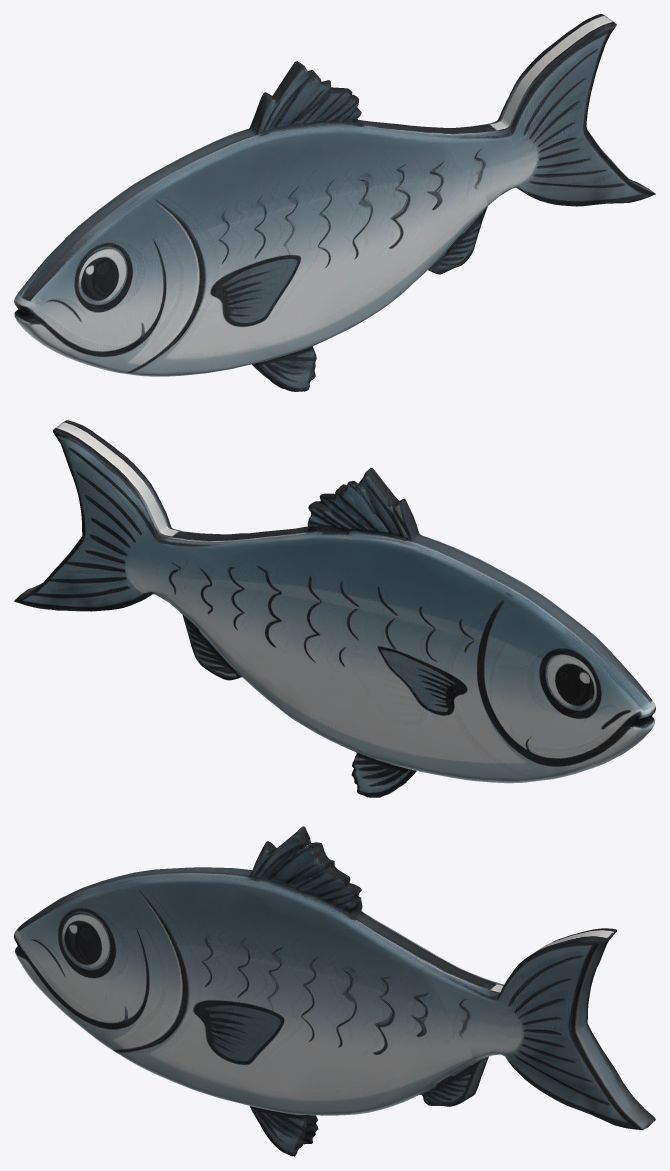
File: herring.glb
The picture shows the model from 3 angles, top to bottom: view 1: azimuth 30°, elevation 25°; view 2: azimuth 150°, elevation 25°; view 3: azimuth 330°, elevation 25°; orthographic projection.
Visible parts, largest first — view 1: Mesh_0; view 2: Mesh_0; view 3: Mesh_0.
Boxes of the visible parts, <box> form: Mesh_0: <box>14,14,655,391</box>; Mesh_0: <box>14,420,655,797</box>; Mesh_0: <box>14,826,655,1156</box>.
Bounding box in the file's own units: 2 × 0.9745 × 0.0942.
Materials: 1 (1 with a texture image).
